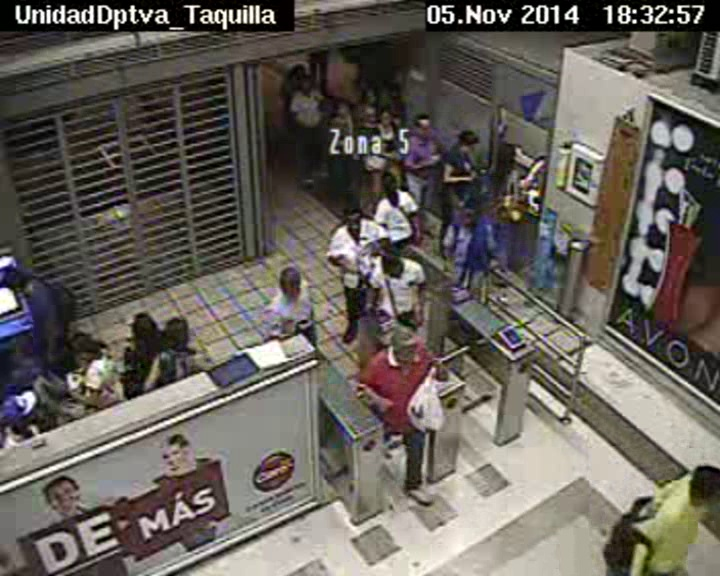person: (694, 464, 720, 502), (392, 330, 420, 363), (1, 263, 29, 293), (130, 313, 158, 341), (164, 318, 190, 347), (279, 268, 306, 295), (379, 248, 404, 275), (457, 128, 480, 155), (342, 208, 365, 234), (2, 343, 24, 369), (77, 338, 100, 361), (458, 202, 481, 225), (495, 142, 517, 166), (413, 114, 433, 138), (380, 171, 401, 193), (298, 75, 316, 94), (333, 101, 350, 119), (288, 64, 305, 82), (378, 109, 394, 127), (361, 88, 377, 106)
